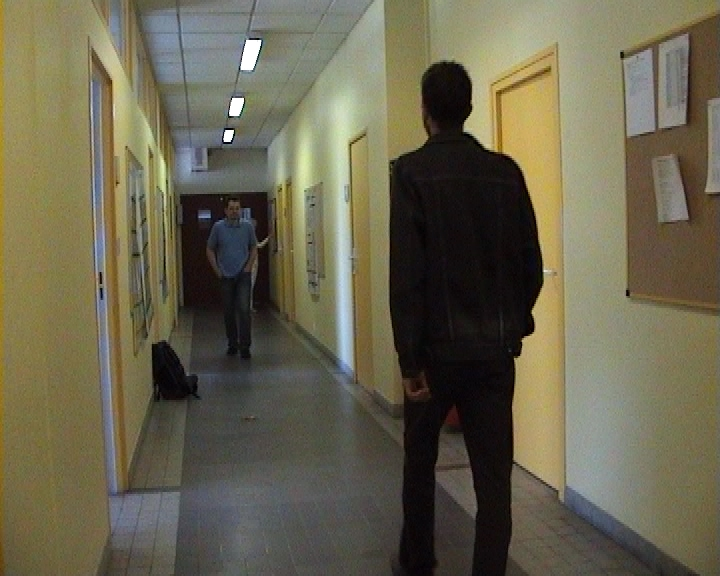leave bag unattended: (137, 325, 215, 415)
